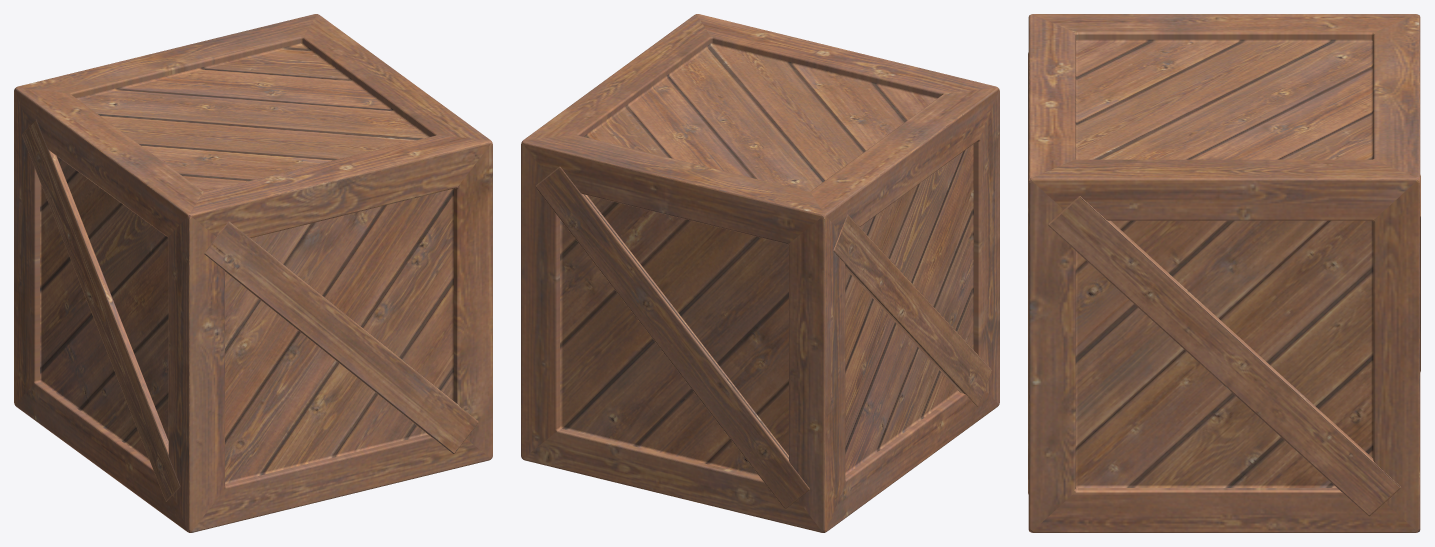
The model's file is Crate.fbx.
3 views of the same model, side by side, from view 1: azimuth 30°, elevation 25°; view 2: azimuth 150°, elevation 25°; view 3: azimuth 270°, elevation 25° (orthographic). The views are drawn at different scales.
Visible parts, largest first — view 1: Crate; view 2: Crate; view 3: Crate.
Part boxes in pixels (x1,y1,x2,y2): Crate: (14, 14, 492, 532); Crate: (521, 14, 999, 532); Crate: (1028, 14, 1420, 532).
Bounding box in the file's own units: 100 × 100 × 100.
